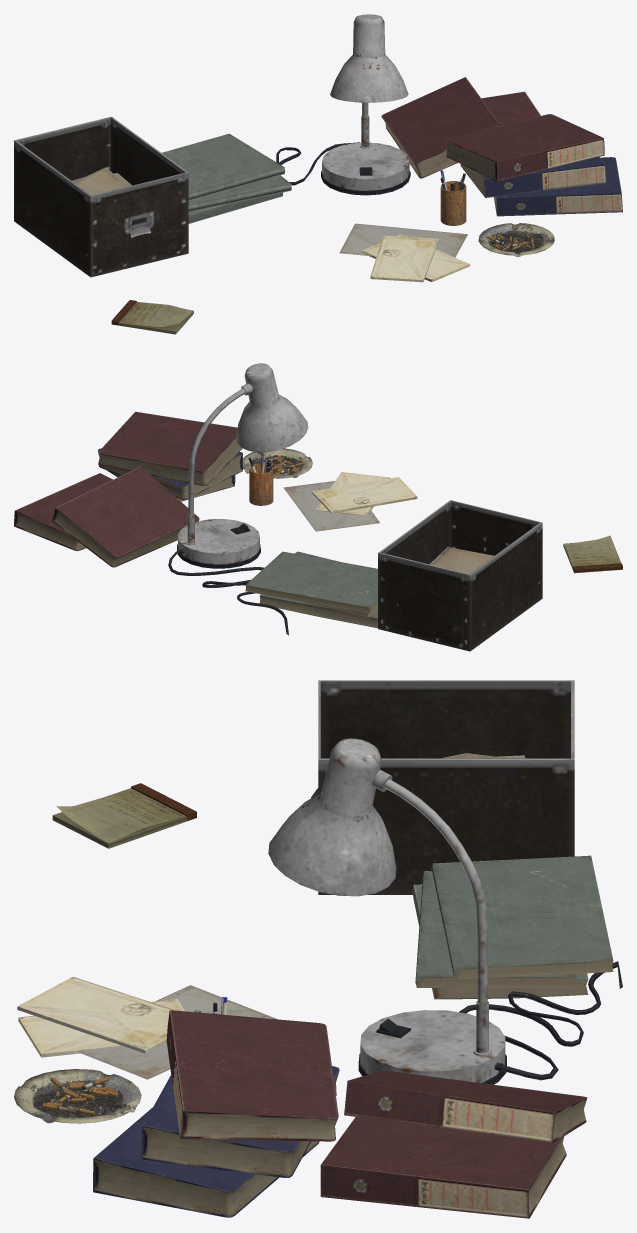
File: sm39_068_officedeskset01a.fbx
The picture shows the model from 3 angles, top to bottom: view 1: azimuth 30°, elevation 25°; view 2: azimuth 150°, elevation 25°; view 3: azimuth 270°, elevation 25°; orthographic projection. The views are drawn at different scales.
Visible parts, largest first — view 1: LOD_1_Group_1_Sub_1__sm36_007_PaperWork01A_A_Mat, LOD_1_Group_0_Sub_3__sm36_022_Cardboard01A_B_Mat, LOD_1_Group_0_Sub_1__sm35_012_DeskLight01A_A_Mat, LOD_1_Group_0_Sub_6__sm36_008_Envelope01A_A, LOD_1_Group_0_Sub_5__sm36_011_Document01A_A_Mat, LOD_1_Group_0_Sub_8__sm36_037_Ashtray01A_B_Mat, LOD_1_Group_0_Sub_9__sm36_013_Notepad01A_A_Mat, LOD_1_Group_9_Sub_1__sm36_007_PaperWork01A_A_Mat, LOD_1_Group_0_Sub_7__sm36_031_Penholder01A_E_Mat; view 2: LOD_1_Group_1_Sub_1__sm36_007_PaperWork01A_A_Mat, LOD_1_Group_0_Sub_3__sm36_022_Cardboard01A_B_Mat, LOD_1_Group_0_Sub_1__sm35_012_DeskLight01A_A_Mat, LOD_1_Group_0_Sub_6__sm36_008_Envelope01A_A, LOD_1_Group_0_Sub_5__sm36_011_Document01A_A_Mat, LOD_1_Group_9_Sub_1__sm36_007_PaperWork01A_A_Mat, LOD_1_Group_0_Sub_9__sm36_013_Notepad01A_A_Mat, LOD_1_Group_0_Sub_8__sm36_037_Ashtray01A_B_Mat, LOD_1_Group_0_Sub_7__sm36_031_Penholder01A_E_Mat; view 3: LOD_1_Group_1_Sub_1__sm36_007_PaperWork01A_A_Mat, LOD_1_Group_0_Sub_3__sm36_022_Cardboard01A_B_Mat, LOD_1_Group_0_Sub_1__sm35_012_DeskLight01A_A_Mat, LOD_1_Group_9_Sub_1__sm36_007_PaperWork01A_A_Mat, LOD_1_Group_0_Sub_6__sm36_008_Envelope01A_A, LOD_1_Group_0_Sub_8__sm36_037_Ashtray01A_B_Mat, LOD_1_Group_0_Sub_9__sm36_013_Notepad01A_A_Mat, LOD_1_Group_0_Sub_5__sm36_011_Document01A_A_Mat.
Part boxes in pixels (box(x1,y1,x2,y2)): LOD_1_Group_1_Sub_1__sm36_007_PaperWork01A_A_Mat: box(162, 77, 622, 223); LOD_1_Group_0_Sub_3__sm36_022_Cardboard01A_B_Mat: box(14, 116, 188, 277); LOD_1_Group_0_Sub_1__sm35_012_DeskLight01A_A_Mat: box(276, 14, 410, 195); LOD_1_Group_0_Sub_6__sm36_008_Envelope01A_A: box(361, 234, 469, 282); LOD_1_Group_0_Sub_5__sm36_011_Document01A_A_Mat: box(72, 167, 467, 257); LOD_1_Group_0_Sub_8__sm36_037_Ashtray01A_B_Mat: box(478, 223, 554, 257); LOD_1_Group_0_Sub_9__sm36_013_Notepad01A_A_Mat: box(111, 300, 193, 334); LOD_1_Group_9_Sub_1__sm36_007_PaperWork01A_A_Mat: box(481, 91, 540, 125); LOD_1_Group_0_Sub_7__sm36_031_Penholder01A_E_Mat: box(440, 169, 466, 225); LOD_1_Group_1_Sub_1__sm36_007_PaperWork01A_A_Mat: box(51, 411, 377, 628); LOD_1_Group_0_Sub_3__sm36_022_Cardboard01A_B_Mat: box(378, 500, 542, 651); LOD_1_Group_0_Sub_1__sm35_012_DeskLight01A_A_Mat: box(168, 363, 308, 635); LOD_1_Group_0_Sub_6__sm36_008_Envelope01A_A: box(312, 472, 417, 516); LOD_1_Group_0_Sub_5__sm36_011_Document01A_A_Mat: box(283, 481, 494, 573); LOD_1_Group_9_Sub_1__sm36_007_PaperWork01A_A_Mat: box(14, 473, 112, 551); LOD_1_Group_0_Sub_9__sm36_013_Notepad01A_A_Mat: box(563, 535, 622, 573); LOD_1_Group_0_Sub_8__sm36_037_Ashtray01A_B_Mat: box(243, 448, 312, 478); LOD_1_Group_0_Sub_7__sm36_031_Penholder01A_E_Mat: box(248, 453, 273, 505); LOD_1_Group_1_Sub_1__sm36_007_PaperWork01A_A_Mat: box(93, 855, 613, 1217); LOD_1_Group_0_Sub_3__sm36_022_Cardboard01A_B_Mat: box(311, 680, 574, 894); LOD_1_Group_0_Sub_1__sm35_012_DeskLight01A_A_Mat: box(268, 738, 622, 1084); LOD_1_Group_9_Sub_1__sm36_007_PaperWork01A_A_Mat: box(320, 1117, 566, 1218); LOD_1_Group_0_Sub_6__sm36_008_Envelope01A_A: box(17, 976, 184, 1057); LOD_1_Group_0_Sub_8__sm36_037_Ashtray01A_B_Mat: box(14, 1069, 141, 1123); LOD_1_Group_0_Sub_9__sm36_013_Notepad01A_A_Mat: box(52, 783, 196, 848); LOD_1_Group_0_Sub_5__sm36_011_Document01A_A_Mat: box(77, 753, 524, 1079).
Bounding box in the file's own units: 1.56 × 0.5631 × 0.9297.
